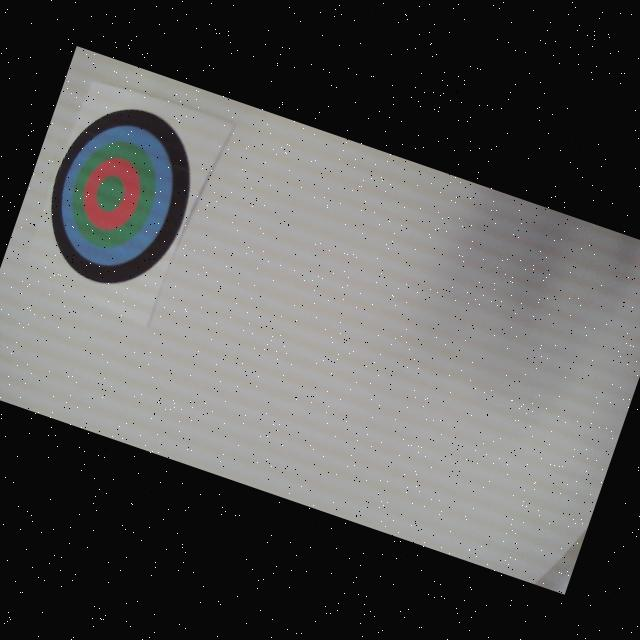COGNITIVE: (27, 89, 214, 302)
